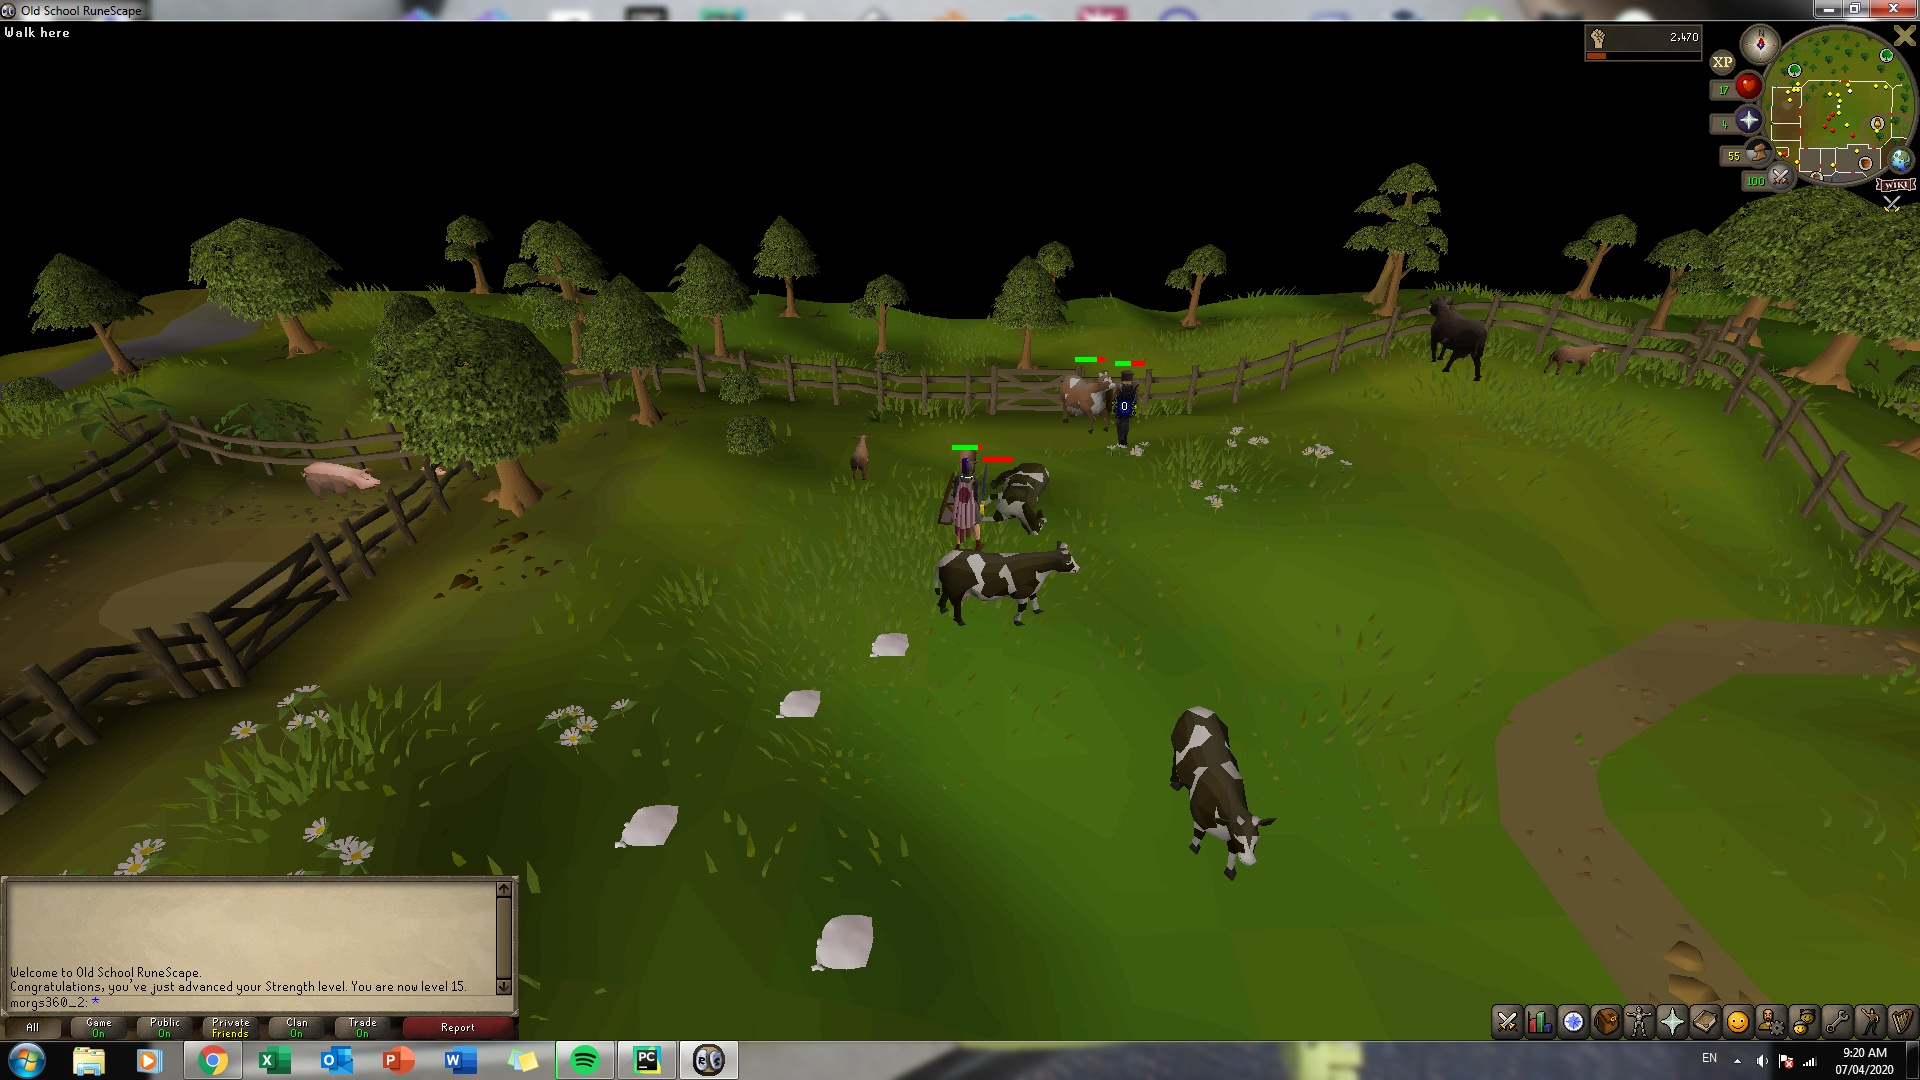cow: (1162, 697, 1266, 888), (928, 539, 1079, 629), (981, 449, 1053, 539), (1422, 295, 1490, 381), (1059, 370, 1114, 435), (1540, 342, 1607, 380), (848, 432, 873, 485)
player: (945, 450, 983, 544)
